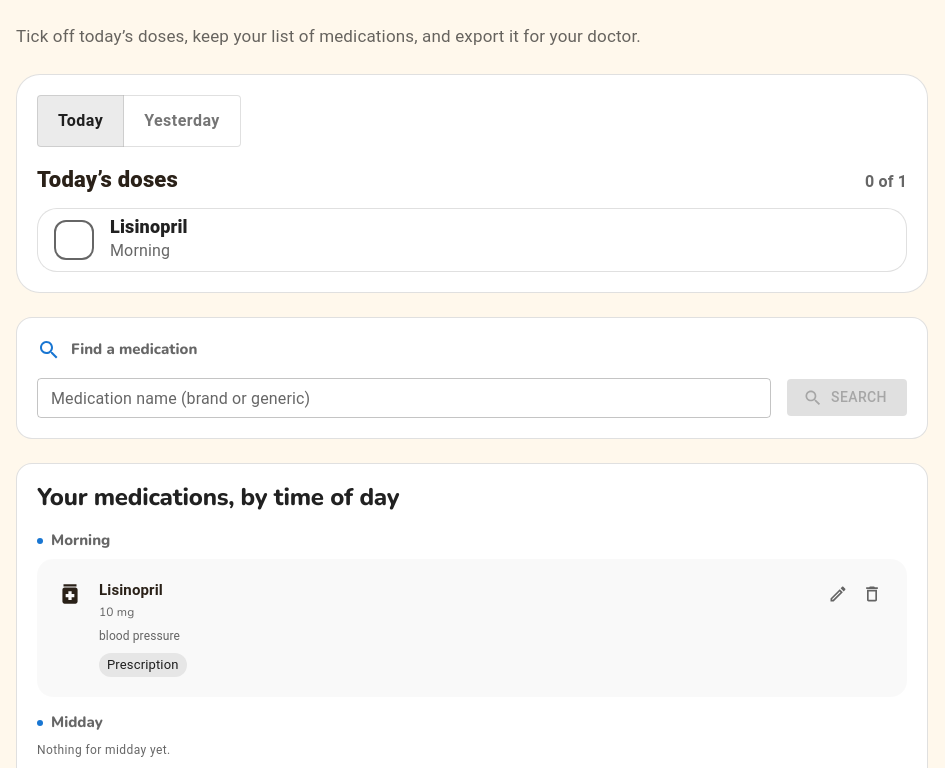
Scenario: L16 — Full: export under the list, "What it's for" › the edit form says "What it's for", not "indications", and keeps the type
Click the button named "Edit Lisinopril".
click(838, 594)  # box [823,579,853,609]
(page scrolled)
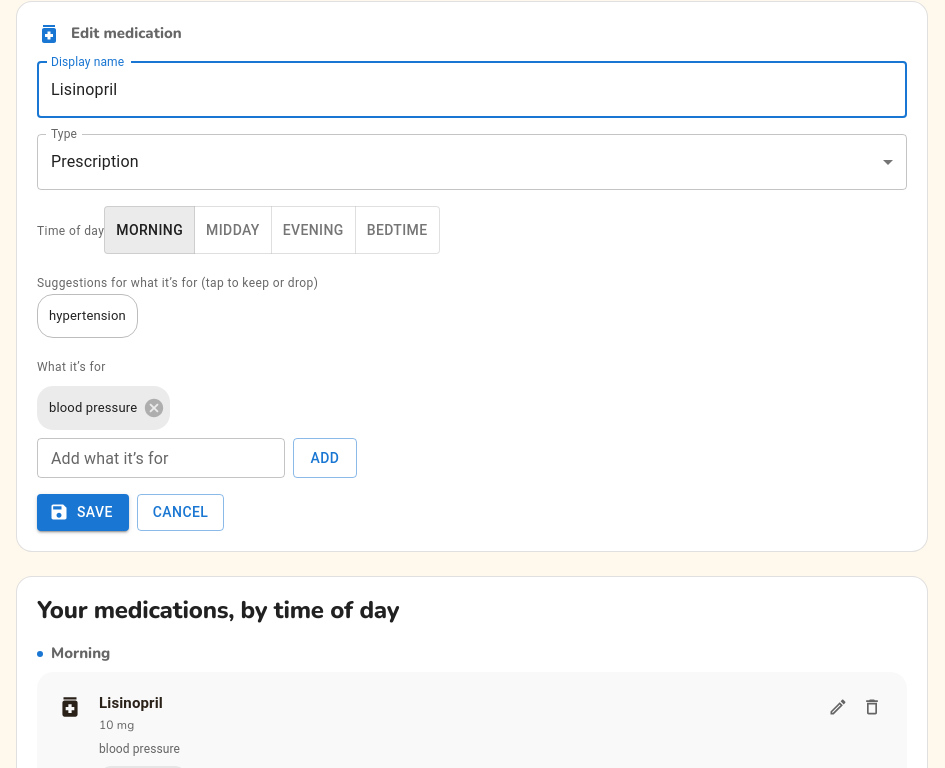
Now the text "What it’s for" is shown, box [37,360,106,374]
Now the dropdown named "Type" is shown, box [51,152,139,171]
